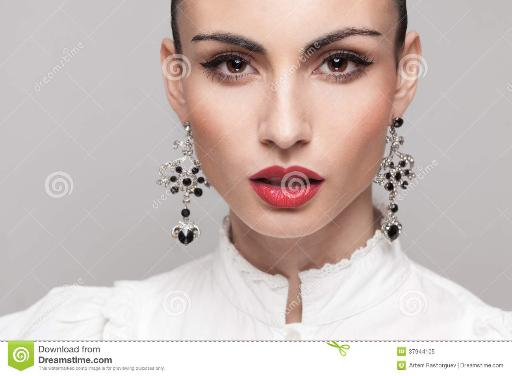left_eye: (312, 53, 372, 83)
left_lip_corner: (316, 176, 330, 188)
right_eye: (206, 56, 261, 85)
right_lip_corner: (245, 174, 260, 188)
